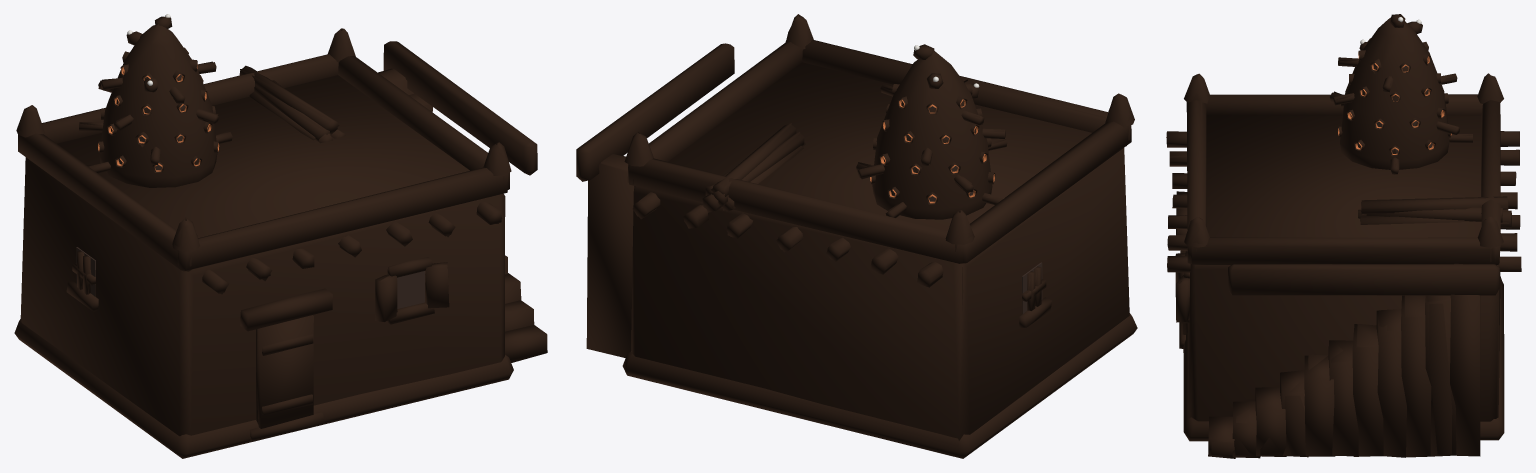
Rendered from house_b.glb.
3 views of the same model, side by side, from view 1: azimuth 30°, elevation 25°; view 2: azimuth 150°, elevation 25°; view 3: azimuth 270°, elevation 25° (orthographic). The views are drawn at different scales.
Parts seen in each view (by area): view 1: house_b_LOD1_outline, house_b_outline, house_b; view 2: house_b_LOD1_outline, house_b_outline, house_b; view 3: house_b_LOD1_outline, house_b_outline, house_b.
Boxes of the visible parts, bbox=[...] form: house_b_LOD1_outline: bbox=[14, 16, 547, 458]; house_b_outline: bbox=[18, 17, 529, 437]; house_b: bbox=[76, 14, 424, 308]; house_b_LOD1_outline: bbox=[576, 14, 1137, 458]; house_b_outline: bbox=[582, 21, 1133, 447]; house_b: bbox=[870, 45, 1042, 313]; house_b_LOD1_outline: bbox=[1166, 14, 1521, 458]; house_b_outline: bbox=[1166, 16, 1520, 456]; house_b: bbox=[1338, 17, 1451, 154].
Size of what is drawn, in the model's own units: 7.37 by 6.22 by 6.26.
